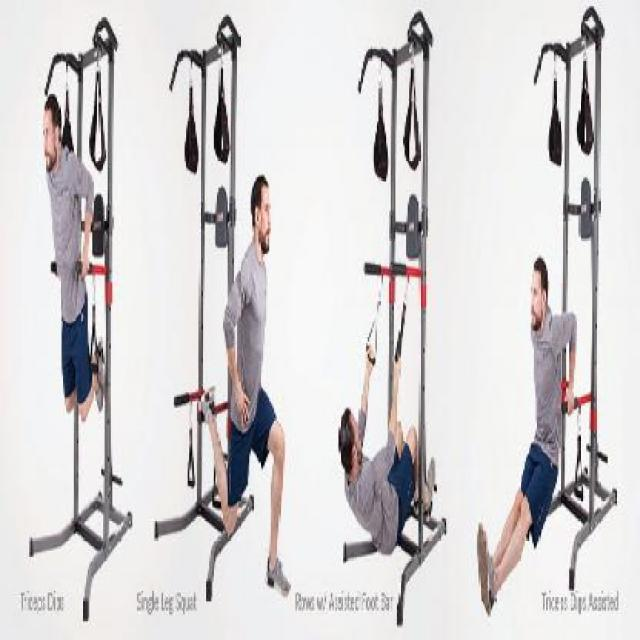chinning dipping: (29, 14, 132, 623)
